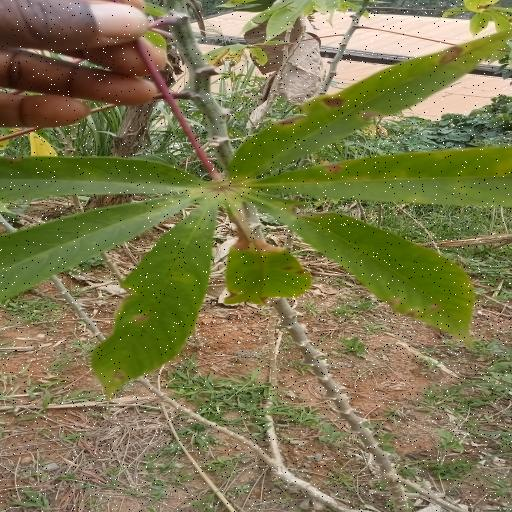Cassava_Root_Rot: (9, 48, 512, 390)
